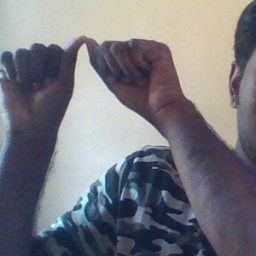A: (14, 25, 153, 119)
